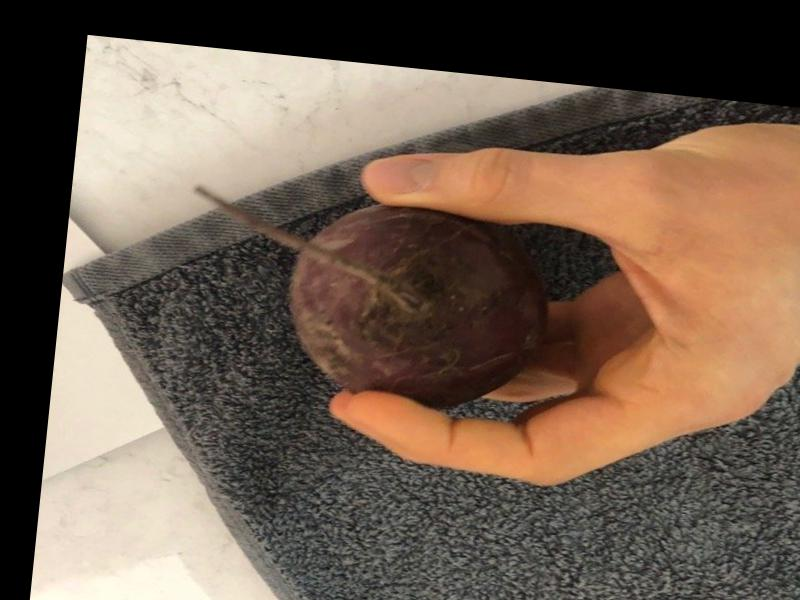Beet: (173, 183, 555, 418)
